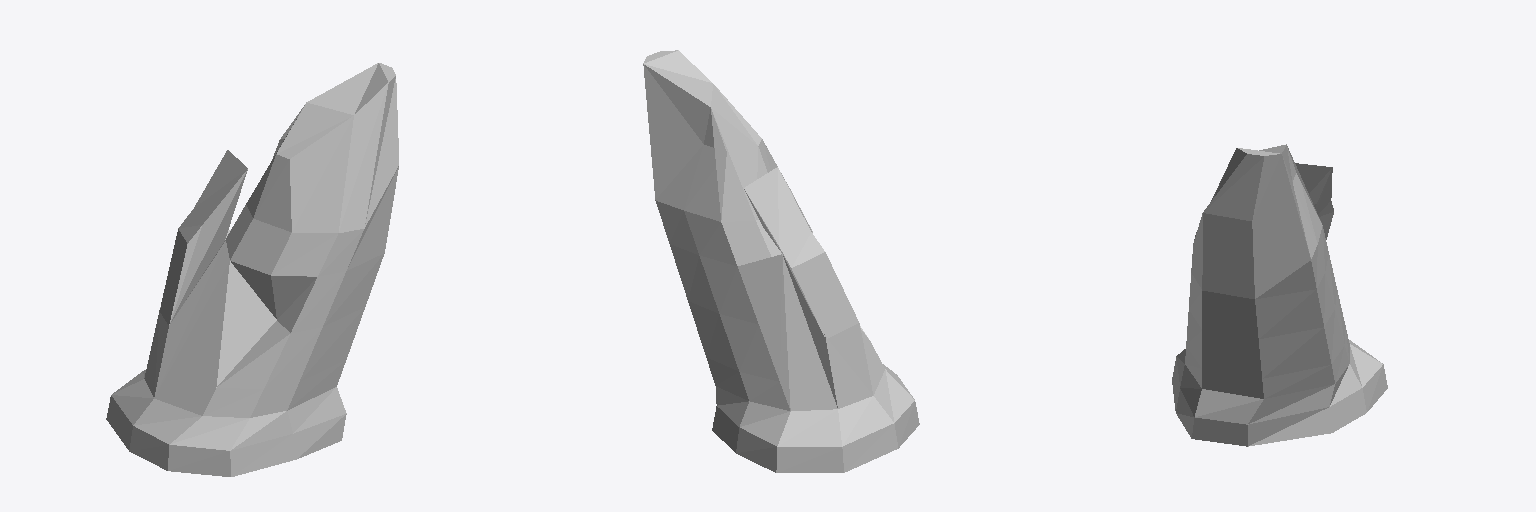
The model's file is Rock10.obj.
3 renders of one model, left to right at view 1: azimuth 30°, elevation 25°; view 2: azimuth 150°, elevation 25°; view 3: azimuth 270°, elevation 25°, orthographic.
Visible parts, largest first — view 1: pasted__pasted__pSphere1 pasted__pasted__pSphere1SmoothProxyGrou; view 2: pasted__pasted__pSphere1 pasted__pasted__pSphere1SmoothProxyGrou; view 3: pasted__pasted__pSphere1 pasted__pasted__pSphere1SmoothProxyGrou.
Part boxes in pixels (x1,y1,x2,y2): pasted__pasted__pSphere1 pasted__pasted__pSphere1SmoothProxyGrou: (106, 63, 398, 476); pasted__pasted__pSphere1 pasted__pasted__pSphere1SmoothProxyGrou: (643, 50, 919, 472); pasted__pasted__pSphere1 pasted__pasted__pSphere1SmoothProxyGrou: (1172, 144, 1387, 446).
Bounding box in the file's own units: 17 × 20.53 × 12.36.